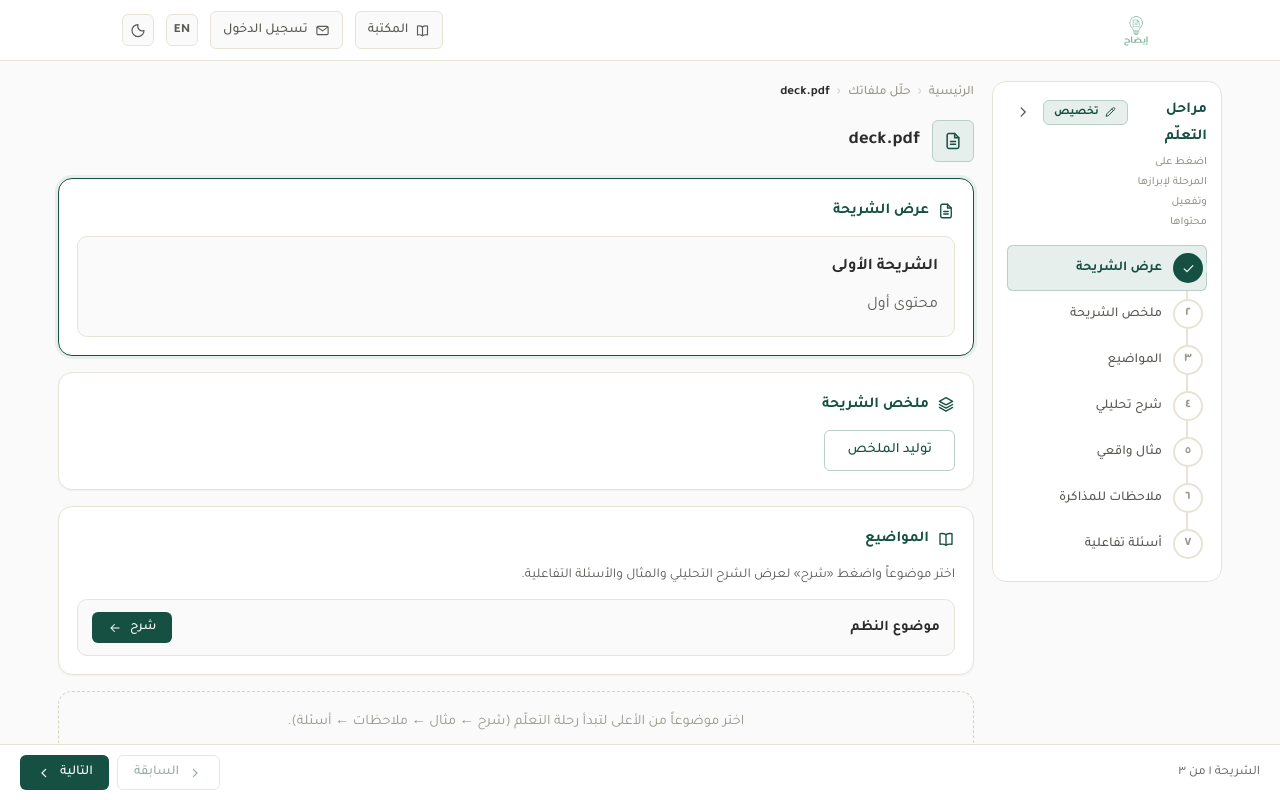
Test case: selecting a topic reveals the analytical explanation and example (real backend)
Click the button with aria-label "شرح موضوع النظم".
click(132, 628)  # box [92, 612, 172, 643]
(page scrolled)
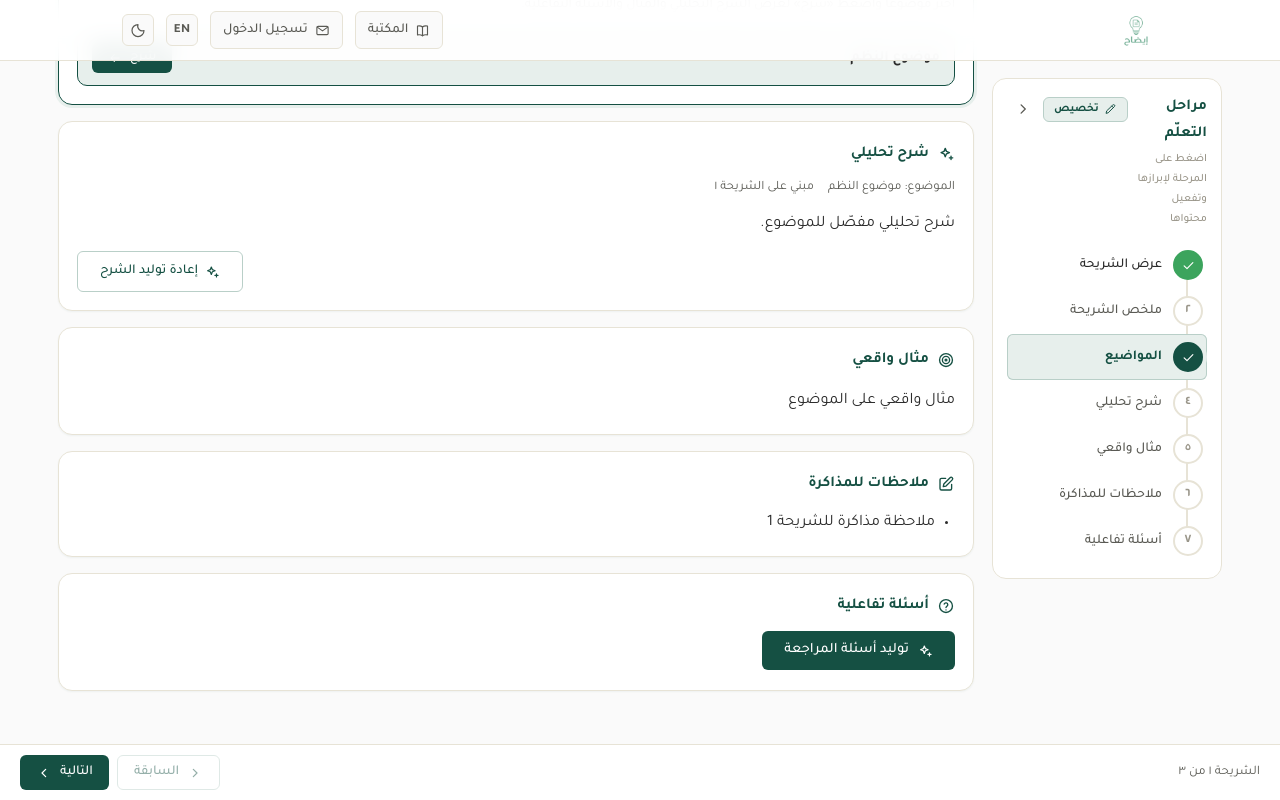
Check: the text "شرح تحليلي مفصّل للموضوع." is shown, box [760, 216, 955, 232]
Check: the text "مثال واقعي على الموضوع" is shown, box [788, 392, 955, 408]
